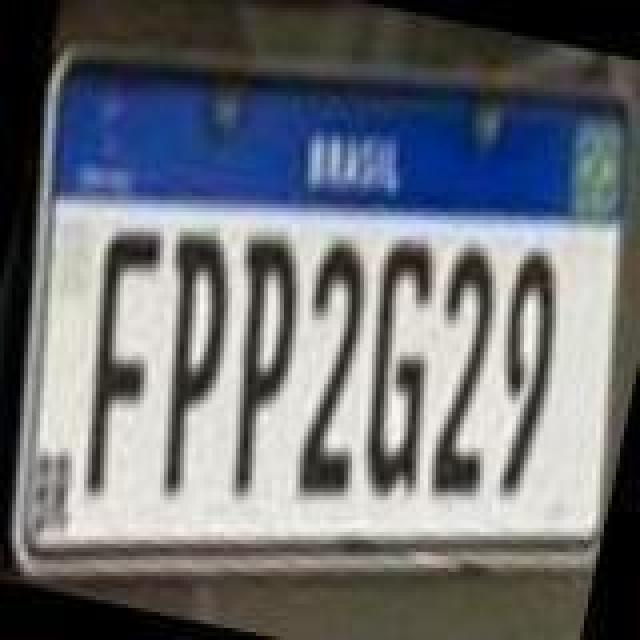2: (270, 232, 402, 504), (400, 242, 528, 510)
9: (462, 248, 578, 504)
F: (48, 214, 176, 506)
G: (332, 230, 468, 506)
P: (118, 222, 250, 498), (194, 232, 318, 504)
